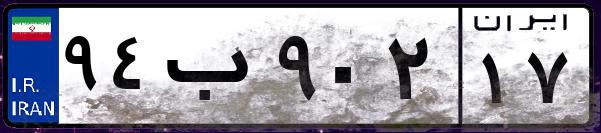0: (330, 28, 385, 110)
1: (475, 38, 525, 113)
2: (385, 28, 445, 110)
4: (110, 28, 158, 98)
7: (525, 38, 570, 115)
9: (270, 28, 330, 110), (57, 26, 110, 100)
ب: (158, 20, 270, 120)
